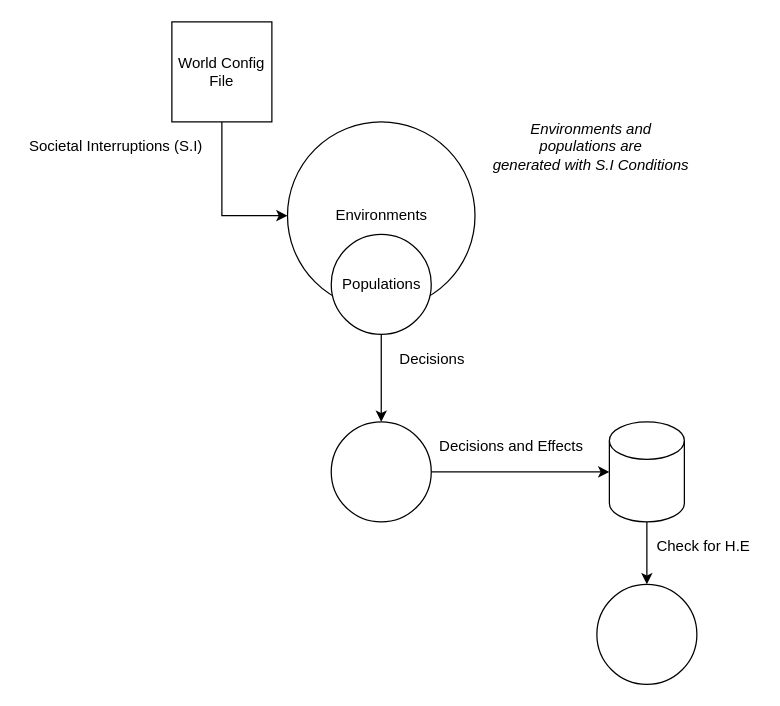
This 780x706 diagram has some shape labels left out. The centre of each missing label's shape, as x and y in pixels:
"Historic Event" belongs at (646,633).
"Main Loop" belongs at (380,471).
